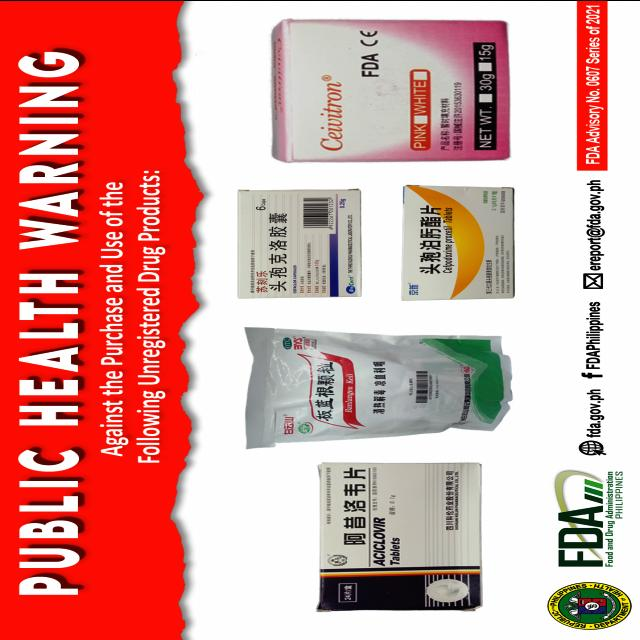counterfeit: (269, 17, 512, 163), (240, 335, 512, 452), (309, 460, 489, 612), (231, 184, 366, 298), (397, 182, 523, 303)
